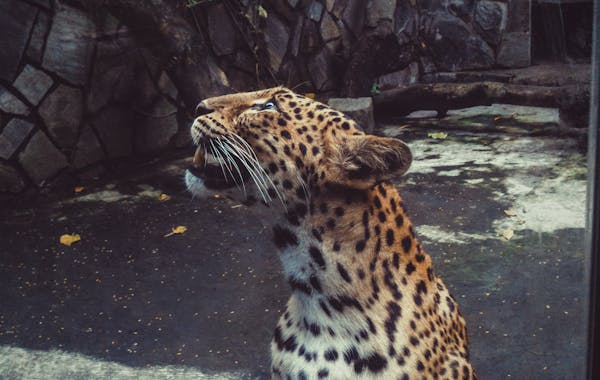Leopard: (185, 85, 476, 380)
